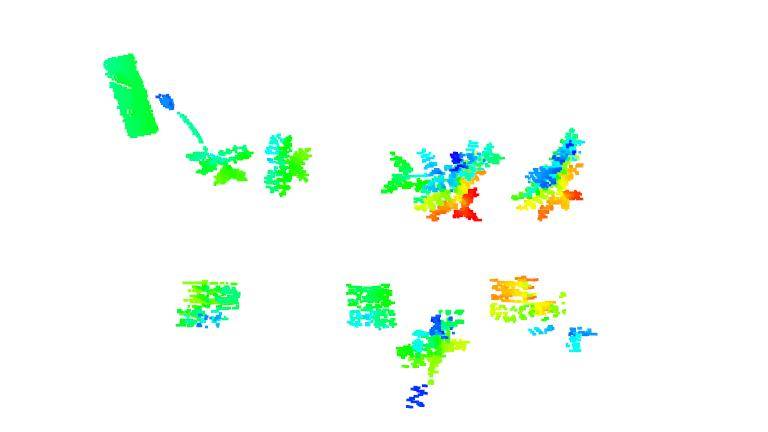chickpea: (379, 140, 503, 222), (511, 126, 589, 222), (396, 309, 472, 383), (486, 273, 572, 335), (172, 277, 244, 330), (263, 130, 315, 199), (342, 283, 398, 331), (190, 144, 254, 184)
